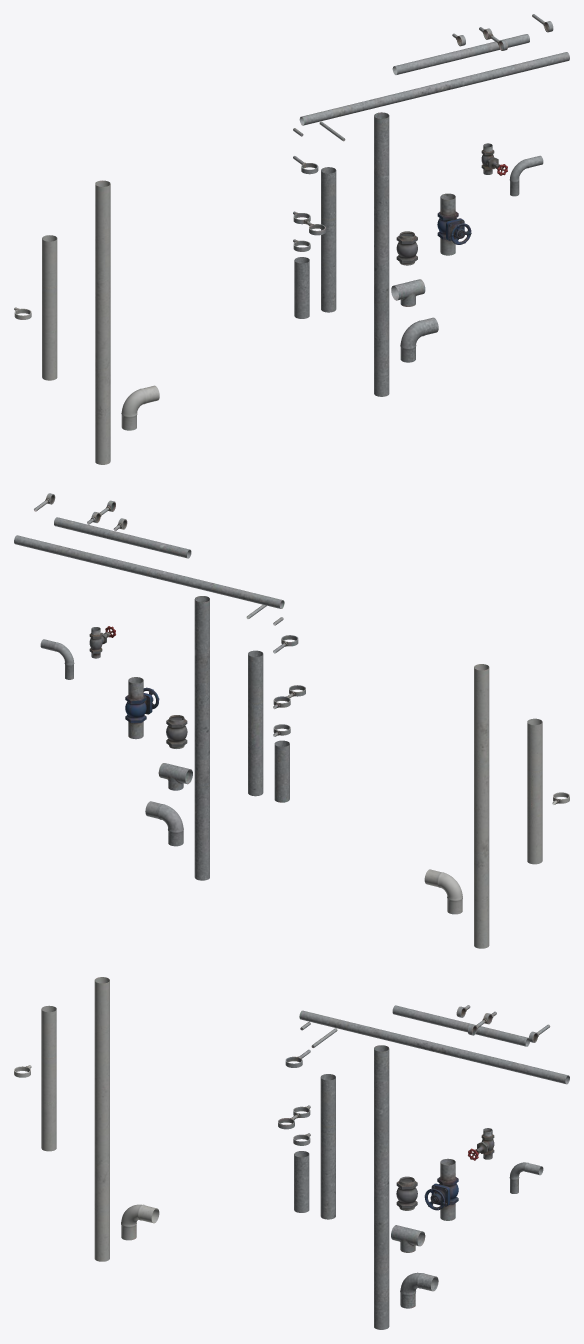
The model's file is modular_pipes.glb.
3 renders of one model, top to bottom at view 1: azimuth 30°, elevation 25°; view 2: azimuth 150°, elevation 25°; view 3: azimuth 330°, elevation 25°, orthographic.
Visible parts, largest first — view 1: pipe_200cm_metal, pipe_200cm_pvc, pipe_thin_200cm_metal, pipe_100cm_pvc, pipe_100cm_metal, pipe_valve_small_1_metal, pipe_thin_100cm_metal, pipe_40cm_metal, pipe_turn_long_pvc, pipe_turn_long_metal, pipe_junction_t_metal, pipe_chamber_small_metal; view 2: pipe_200cm_metal, pipe_200cm_pvc, pipe_thin_200cm_metal, pipe_100cm_pvc, pipe_100cm_metal, pipe_thin_100cm_metal, pipe_valve_small_1_metal, pipe_40cm_metal, pipe_turn_long_metal, pipe_turn_long_pvc, pipe_junction_t_metal, pipe_chamber_small_metal; view 3: pipe_200cm_pvc, pipe_200cm_metal, pipe_thin_200cm_metal, pipe_100cm_metal, pipe_100cm_pvc, pipe_valve_small_1_metal, pipe_thin_100cm_metal, pipe_40cm_metal, pipe_turn_long_metal, pipe_turn_long_pvc, pipe_junction_t_metal, pipe_chamber_small_metal (+2 smaller).
Part boxes in pixels (<box>): pipe_200cm_metal: <box>374,112,389,396</box>; pipe_200cm_pvc: <box>95,180,110,464</box>; pipe_thin_200cm_metal: <box>299,52,569,125</box>; pipe_100cm_pvc: <box>42,235,57,380</box>; pipe_100cm_metal: <box>321,167,336,312</box>; pipe_valve_small_1_metal: <box>437,193,471,255</box>; pipe_thin_100cm_metal: <box>392,34,529,74</box>; pipe_40cm_metal: <box>294,257,309,318</box>; pipe_turn_long_pvc: <box>121,385,159,430</box>; pipe_turn_long_metal: <box>400,317,438,362</box>; pipe_junction_t_metal: <box>391,279,425,306</box>; pipe_chamber_small_metal: <box>396,231,417,265</box>; pipe_200cm_metal: <box>194,596,209,880</box>; pipe_200cm_pvc: <box>474,664,489,948</box>; pipe_thin_200cm_metal: <box>14,535,284,608</box>; pipe_100cm_pvc: <box>527,718,542,864</box>; pipe_100cm_metal: <box>248,650,263,796</box>; pipe_thin_100cm_metal: <box>54,517,191,558</box>; pipe_valve_small_1_metal: <box>125,677,159,739</box>; pipe_40cm_metal: <box>274,740,289,802</box>; pipe_turn_long_metal: <box>145,801,183,846</box>; pipe_turn_long_pvc: <box>424,869,462,914</box>; pipe_junction_t_metal: <box>158,763,192,790</box>; pipe_chamber_small_metal: <box>166,715,187,748</box>; pipe_200cm_pvc: <box>94,977,109,1261</box>; pipe_200cm_metal: <box>374,1045,389,1329</box>; pipe_thin_200cm_metal: <box>299,1010,569,1084</box>; pipe_100cm_metal: <box>320,1074,335,1219</box>; pipe_100cm_pvc: <box>41,1005,56,1151</box>; pipe_valve_small_1_metal: <box>424,1158,458,1220</box>; pipe_thin_100cm_metal: <box>392,1005,529,1046</box>; pipe_40cm_metal: <box>294,1151,309,1212</box>; pipe_turn_long_metal: <box>400,1272,438,1308</box>; pipe_turn_long_pvc: <box>121,1204,159,1240</box>; pipe_junction_t_metal: <box>391,1225,425,1252</box>; pipe_chamber_small_metal: <box>396,1176,417,1210</box>.
Bounding box in the file's own units: 4.16 × 2.43 × 0.3556.
Materials: 2 (2 with a texture image).
